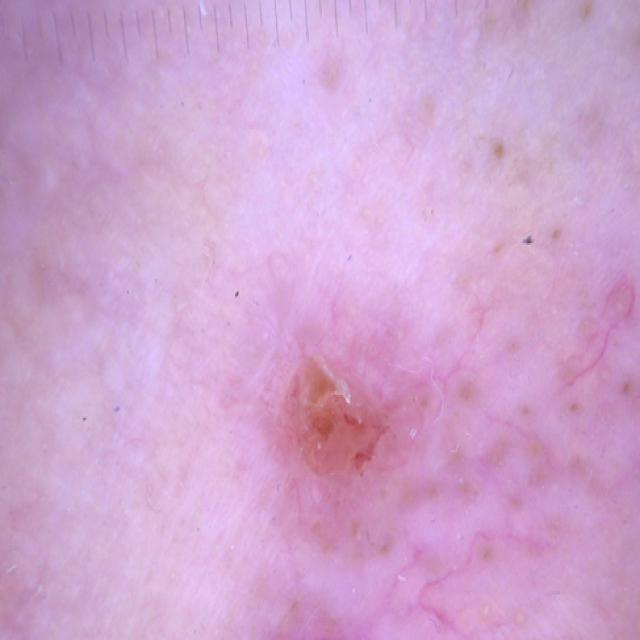Carcinoma: (256, 296, 399, 516)
